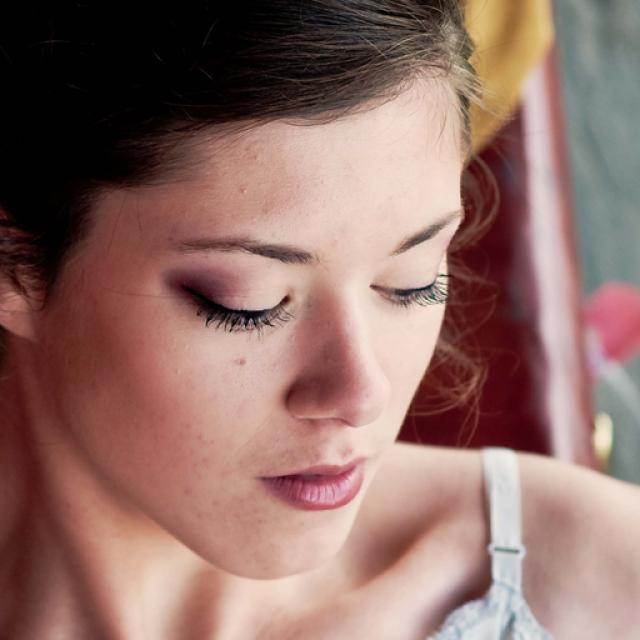sad: (74, 80, 460, 582)
